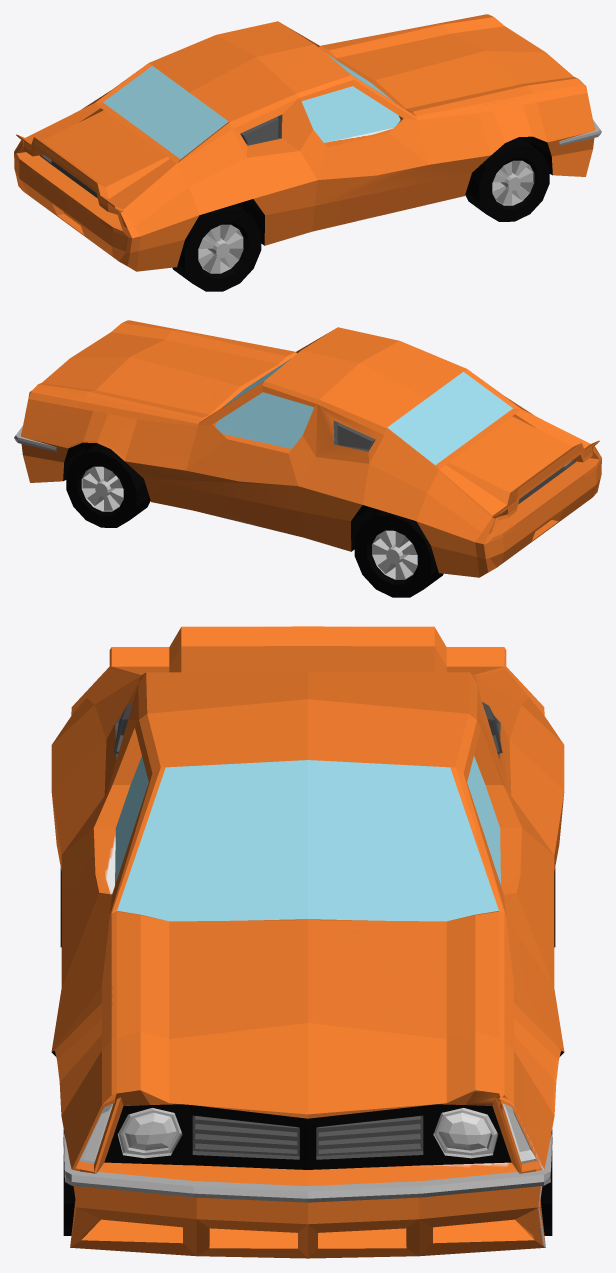
Rendered from pedro.fbx.
The picture shows the model from 3 angles, top to bottom: view 1: azimuth 30°, elevation 25°; view 2: azimuth 150°, elevation 25°; view 3: azimuth 270°, elevation 25°; orthographic projection. The views are drawn at different scales.
Visible parts, largest first — view 1: Cube.001, Cylinder.001; view 2: Cube.001, Cylinder.001; view 3: Cube.001, Cube.002, Cylinder.001.
Boxes of the visible parts, bbox=[...] form: Cube.001: bbox=[14, 14, 594, 271]; Cylinder.001: bbox=[172, 137, 549, 291]; Cube.001: bbox=[21, 320, 601, 577]; Cylinder.001: bbox=[66, 443, 443, 597]; Cube.001: bbox=[51, 626, 564, 1258]; Cube.002: bbox=[63, 1133, 552, 1202]; Cylinder.001: bbox=[60, 868, 555, 1235].
Bounding box in the file's own units: 1375 × 447 × 617.
